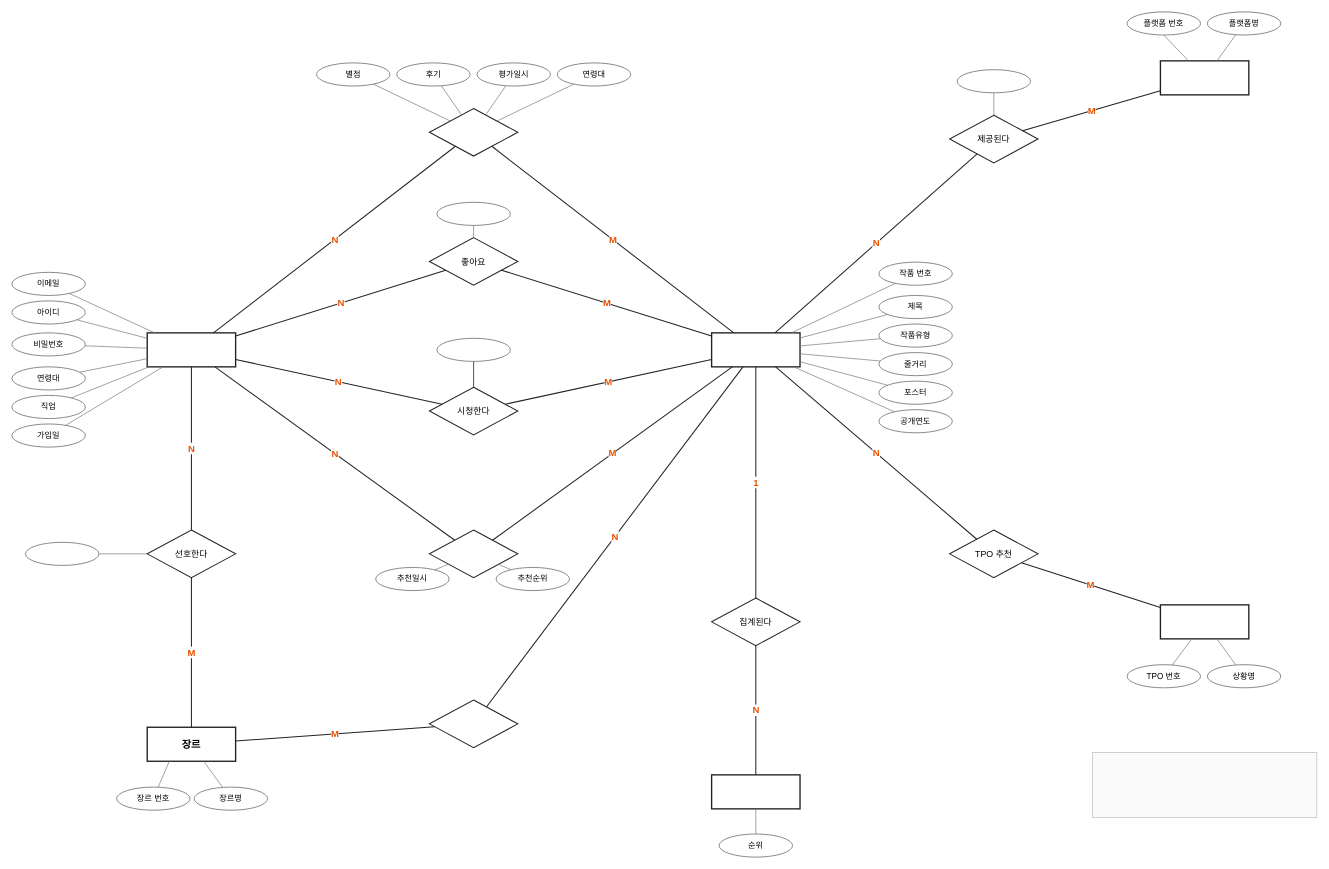
Some shapes in this 1329 by 869 pixel diagram are drawn without their labels. Here are the shapes that lost their labels. From the top down, the centre of each, then its label:
[993,81]: 딥링크주소
[1204,77]: OTT
[473,132]: 평가한다
[473,213]: 좋아요 기록
[191,349]: 회원
[473,349]: 시청 기록
[755,349]: 작품
[62,553]: 취향구분
[473,553]: ai에게 추천 받는다
[1204,621]: TPO
[473,723]: 속한다
[755,791]: 랭킹
[1204,785]: 표기법 □ 엔터티 · ○ 속성 · ◇ 관계 밑줄 = 기본키(PK) 1 / N / M = 관계 수 (N:M은 나중에 연결 테이블로 분리)
